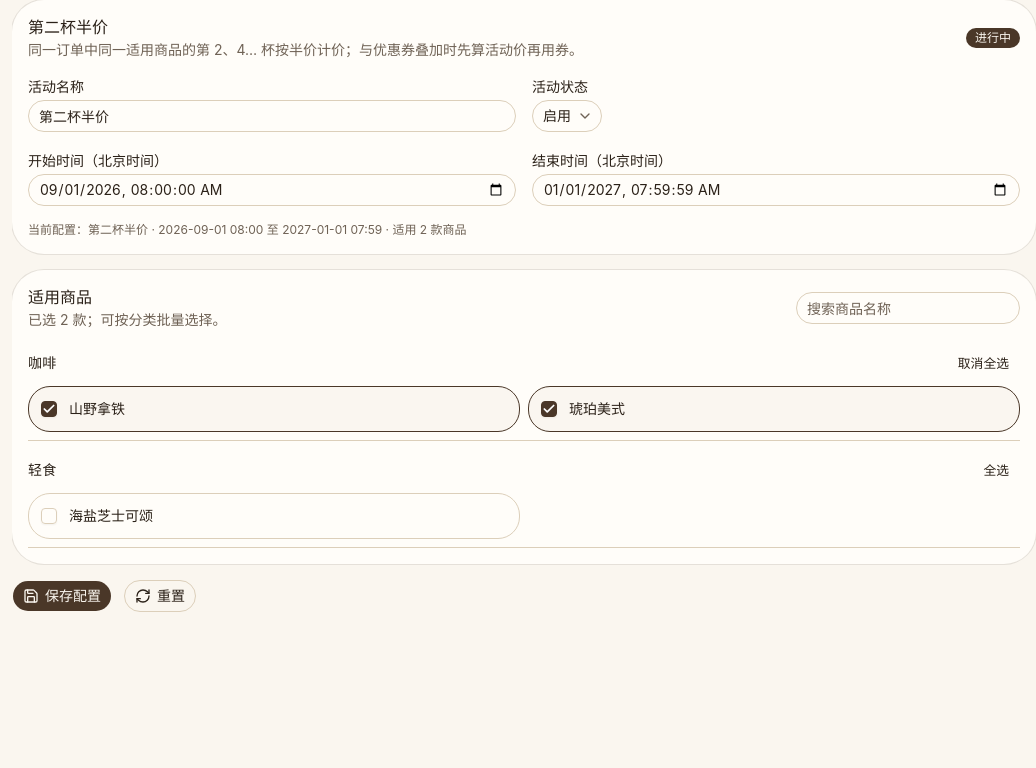
Scenario: PromoPage › 结束时间早于开始时间给出中文错误
Expected: the text "第二杯半价" is shown, [28,19,108,36]
Replace the text in the field labelled "开始时间（北京时间）" with "2026-12-01T08:00" at (272, 190), box [28,174,516,206]
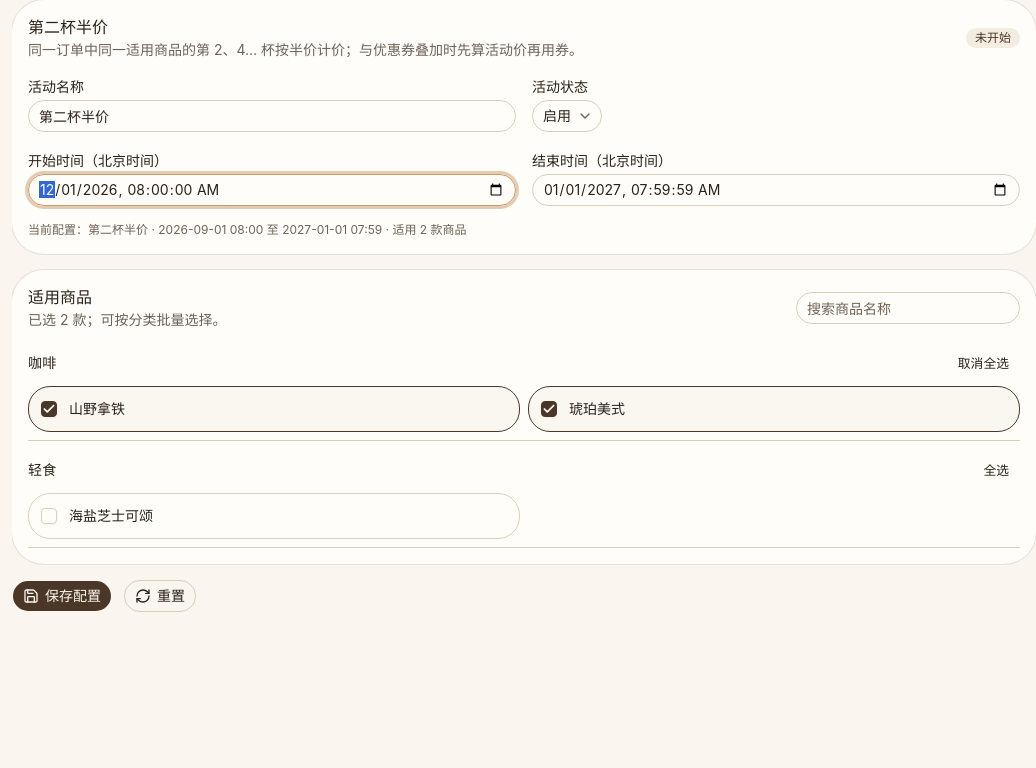
Replace the text in the field labelled "结束时间（北京时间）" with "2026-11-01T08:00" at (776, 190), box [532,174,1020,206]
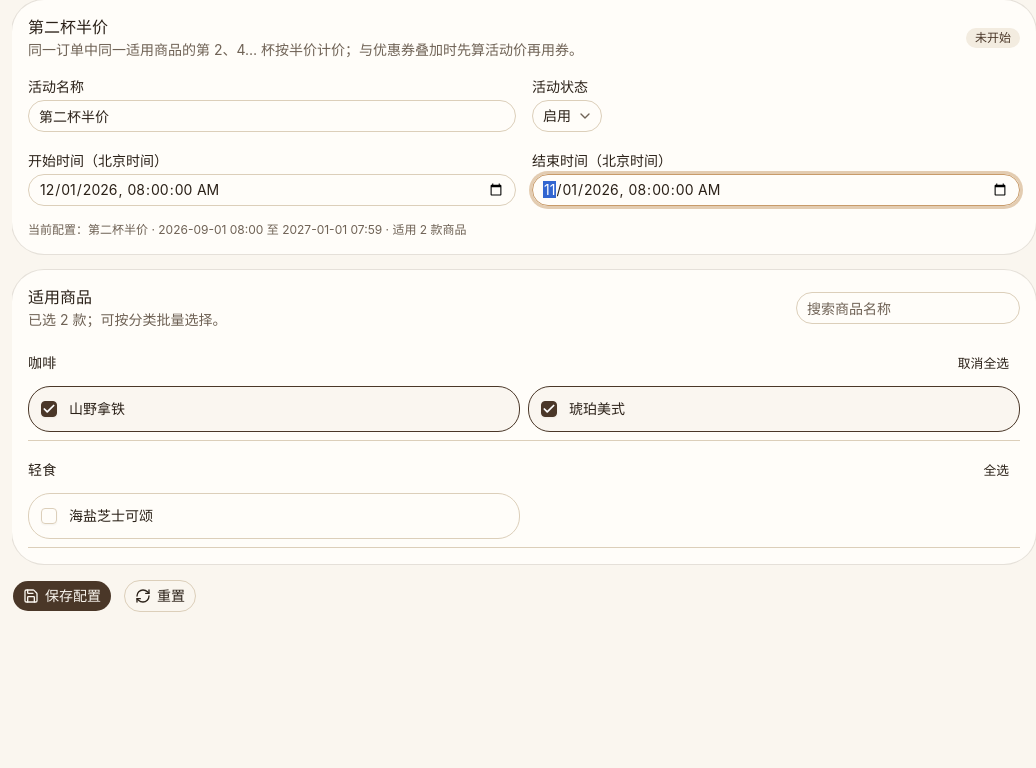
Click the button "保存配置" at (62, 596), box [12,580,112,612]
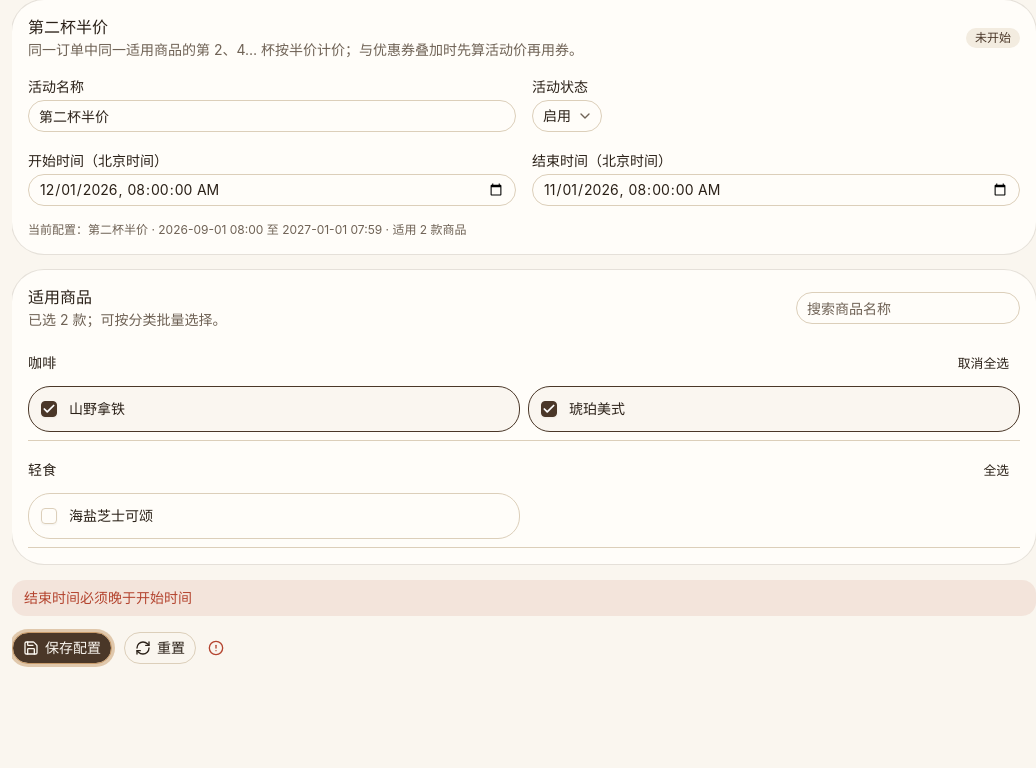
Expected: the message reads "结束时间必须晚于开始时间", [24,589,192,606]
